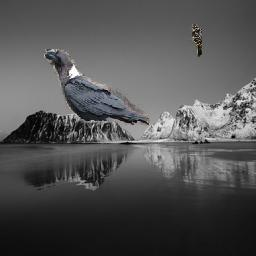Crow: (44, 50, 150, 127)
Woodpecker: (190, 23, 202, 57)
